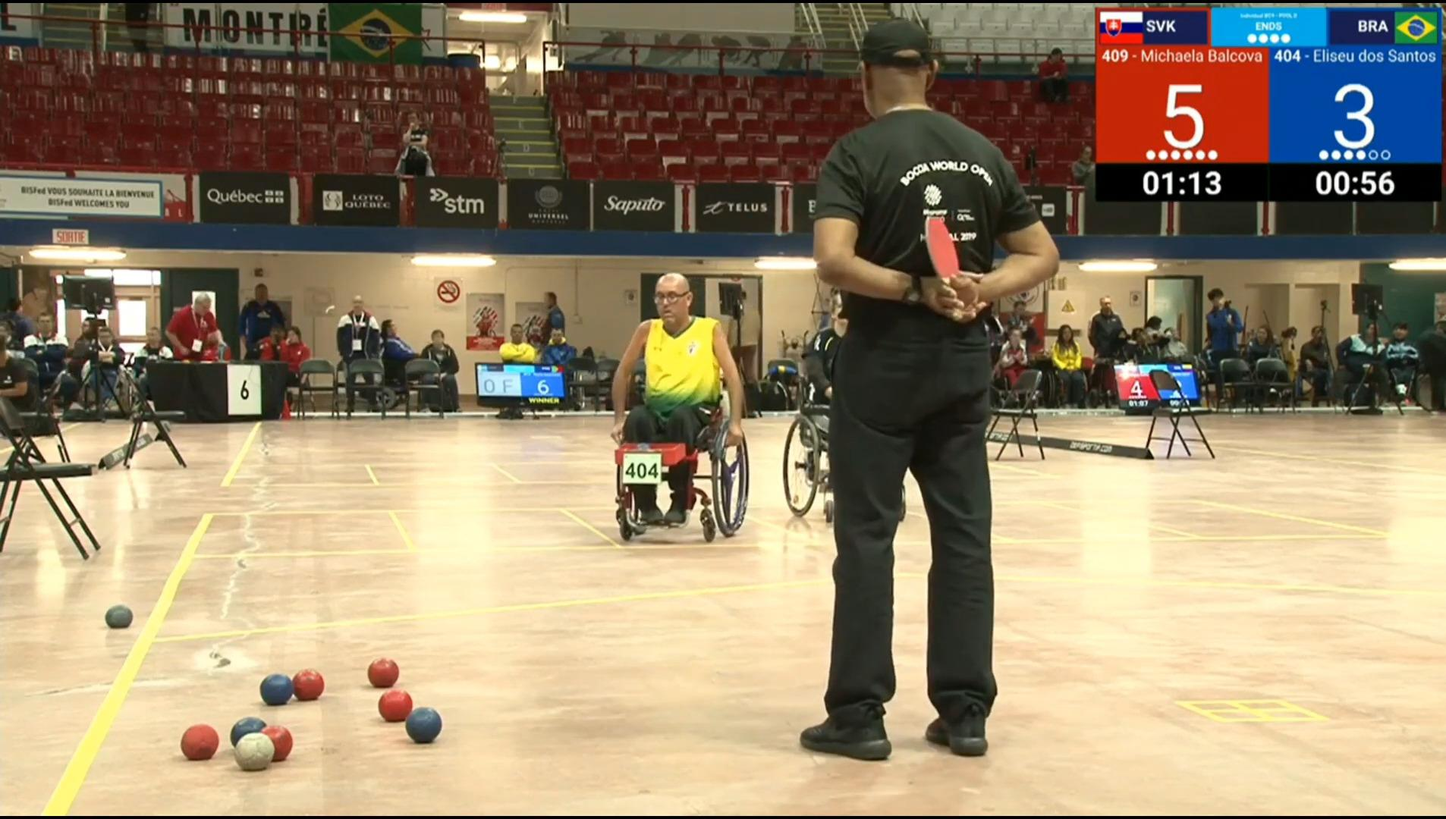blue_ball: (406, 709, 441, 743), (260, 675, 292, 705), (232, 718, 266, 737), (105, 605, 132, 628)
red_ball: (180, 725, 218, 759), (379, 690, 411, 724), (263, 726, 292, 758), (369, 658, 399, 688), (293, 670, 323, 699)
white_ball: (233, 733, 274, 771)
